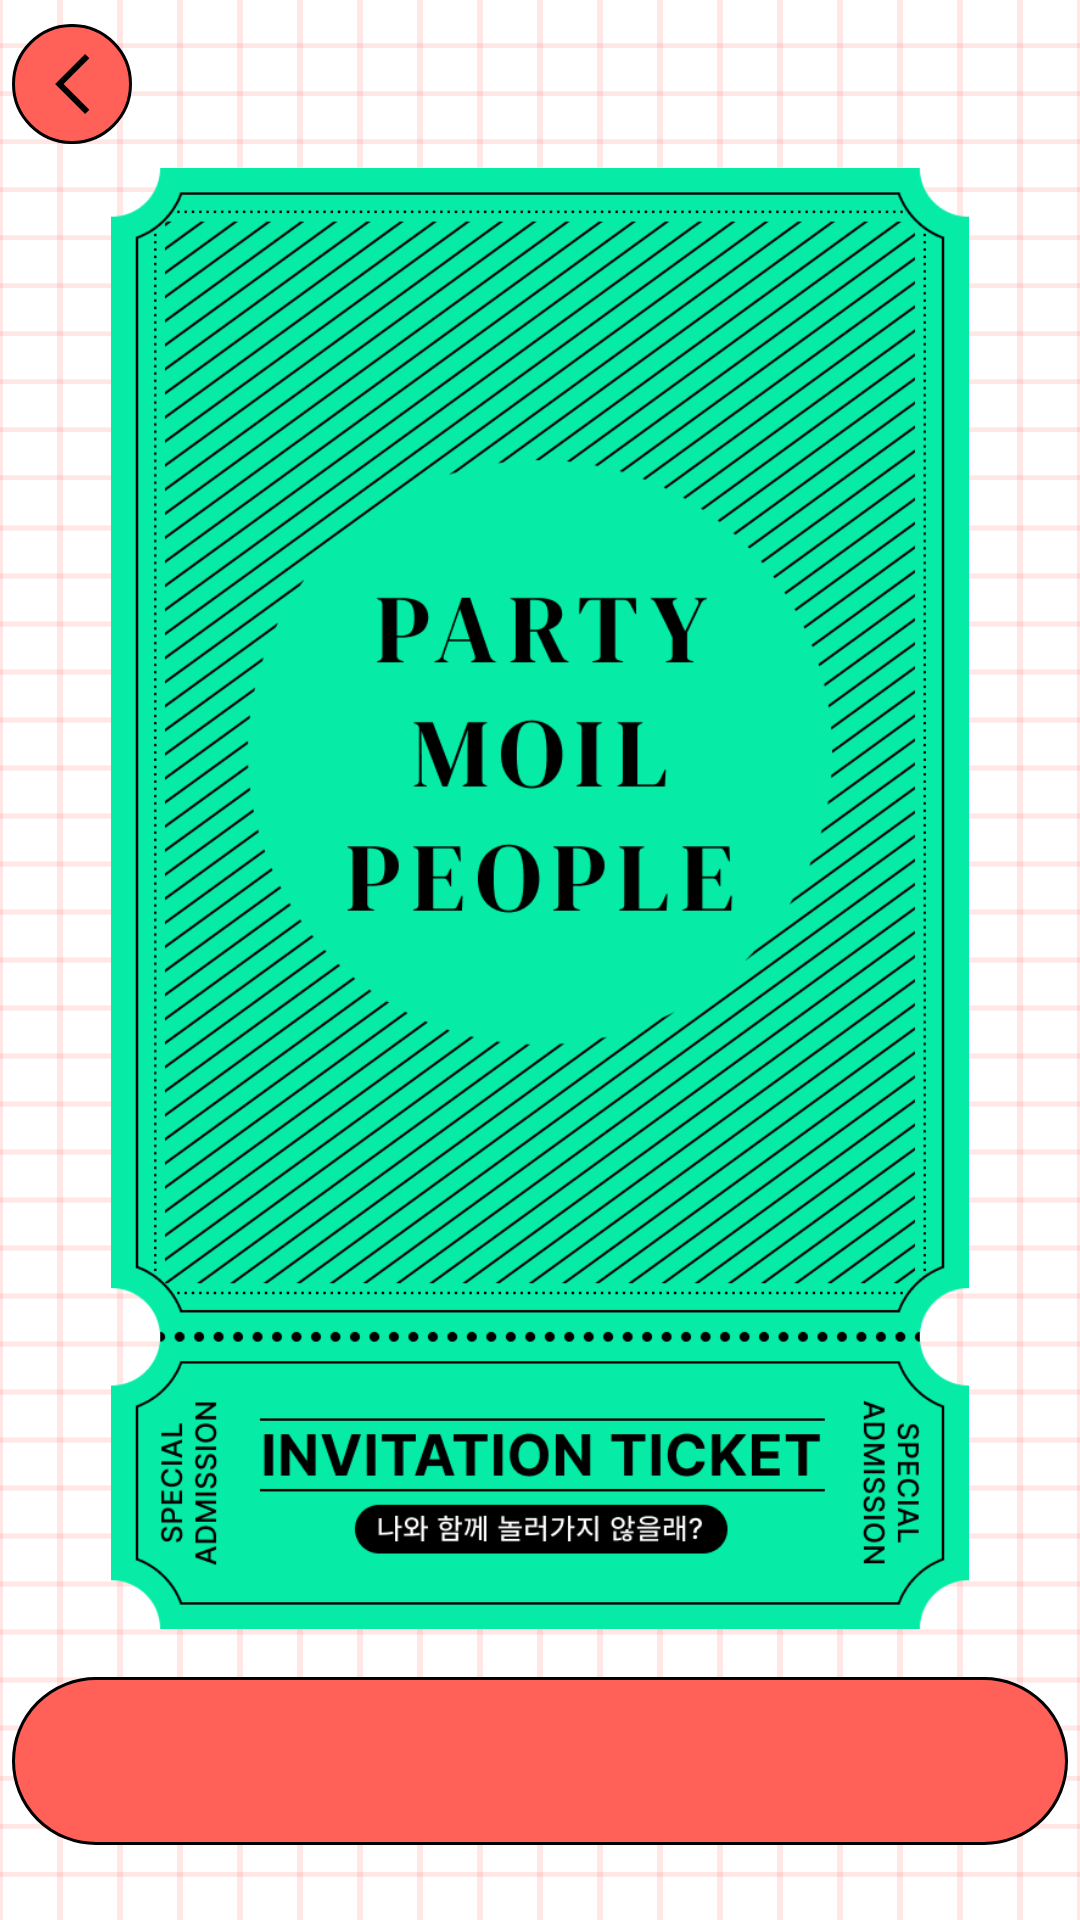

Where icons sit on this 1080px×1920px app screen, as Rect(x1, y1, x2, y2):
back: Rect(12, 24, 132, 144)
